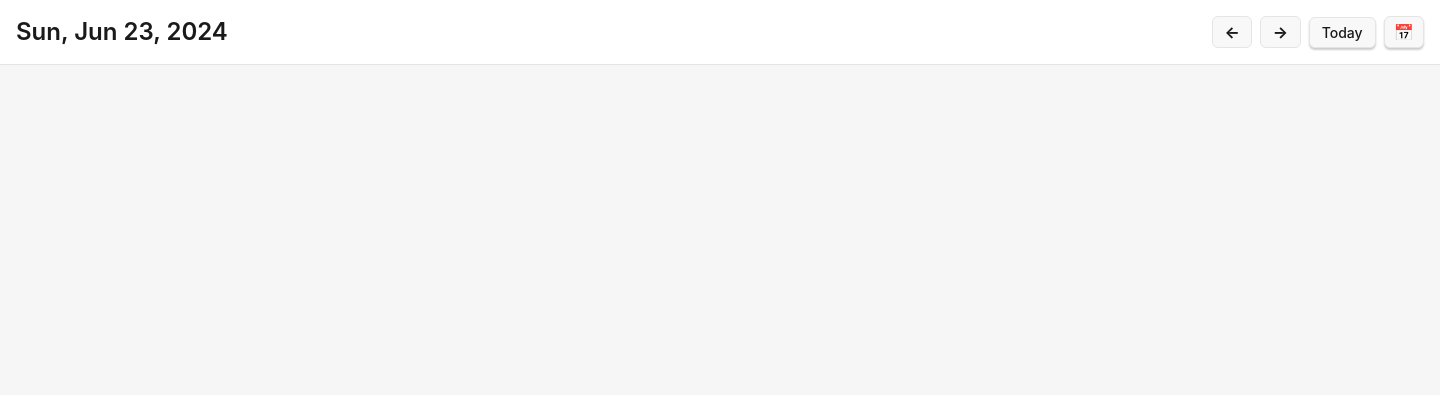
Test: DateNavigationBar › toggles date picker when calendar button is clicked
Note: Click to show date picker
Click the button named "Open calendar picker".
click(1404, 32)  # box [1384,16,1424,48]
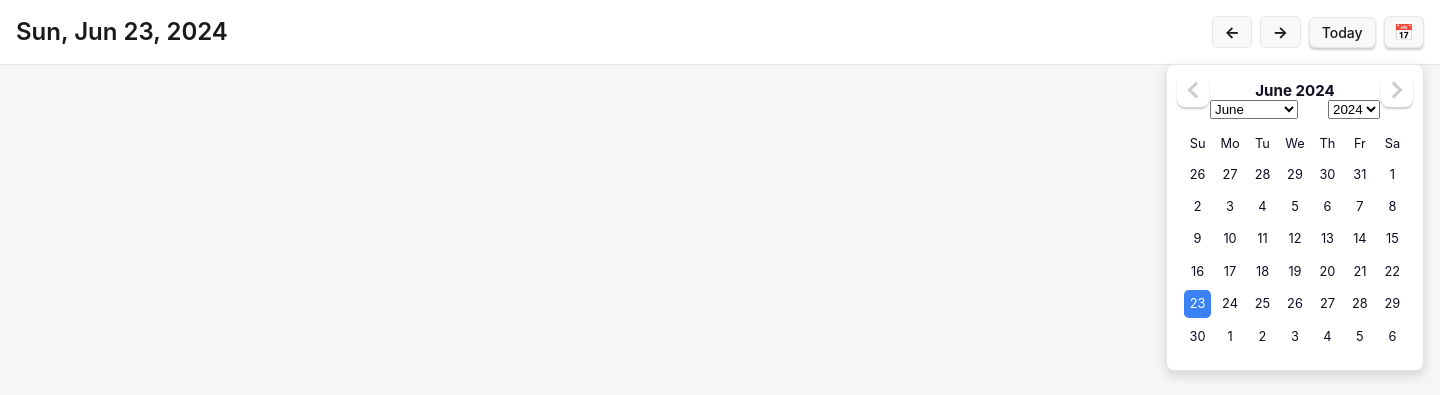
Result: the element with class "react-datepicker" is shown at [1175,73,1415,359]
